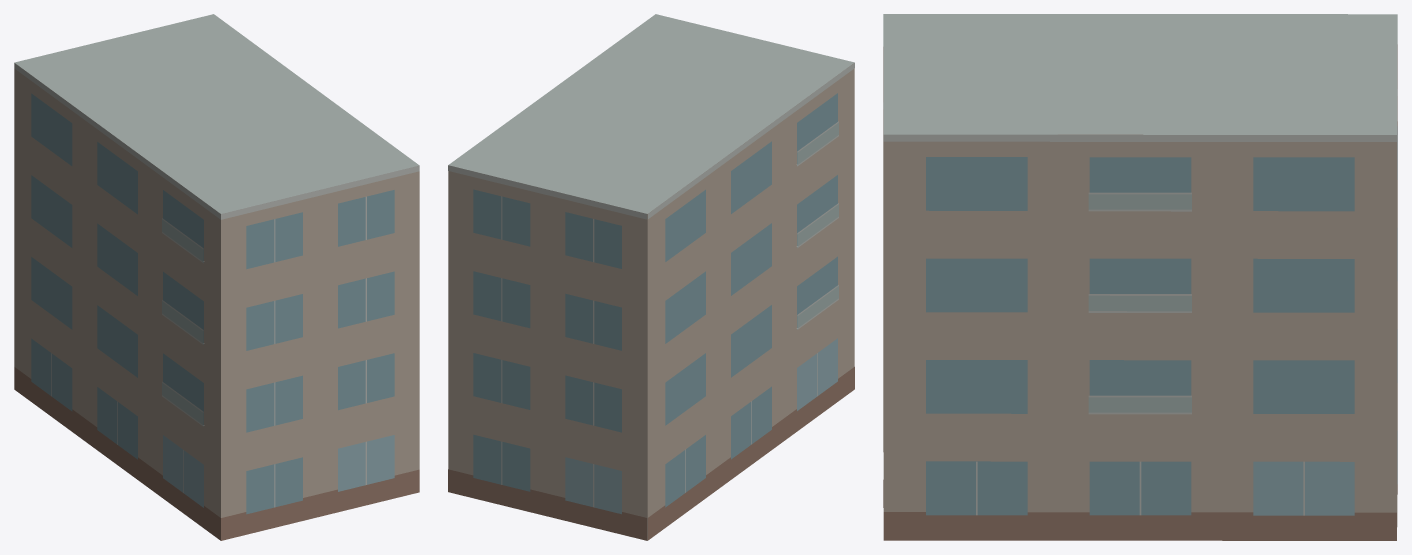
Rendered from survey-upis-32705407.glb.
3 views of the same model, side by side, from view 1: azimuth 30°, elevation 25°; view 2: azimuth 150°, elevation 25°; view 3: azimuth 270°, elevation 25° (orthographic). The views are drawn at different scales.
Visible parts, largest first — view 1: survey-upis-32705407.tmp; view 2: survey-upis-32705407.tmp; view 3: survey-upis-32705407.tmp.
Part boxes in pixels (bbox=[...]): survey-upis-32705407.tmp: bbox=[14, 14, 419, 540]; survey-upis-32705407.tmp: bbox=[448, 14, 854, 540]; survey-upis-32705407.tmp: bbox=[883, 14, 1397, 540].
Bounding box in the file's own units: 8.95 × 13.9 × 15.98.
